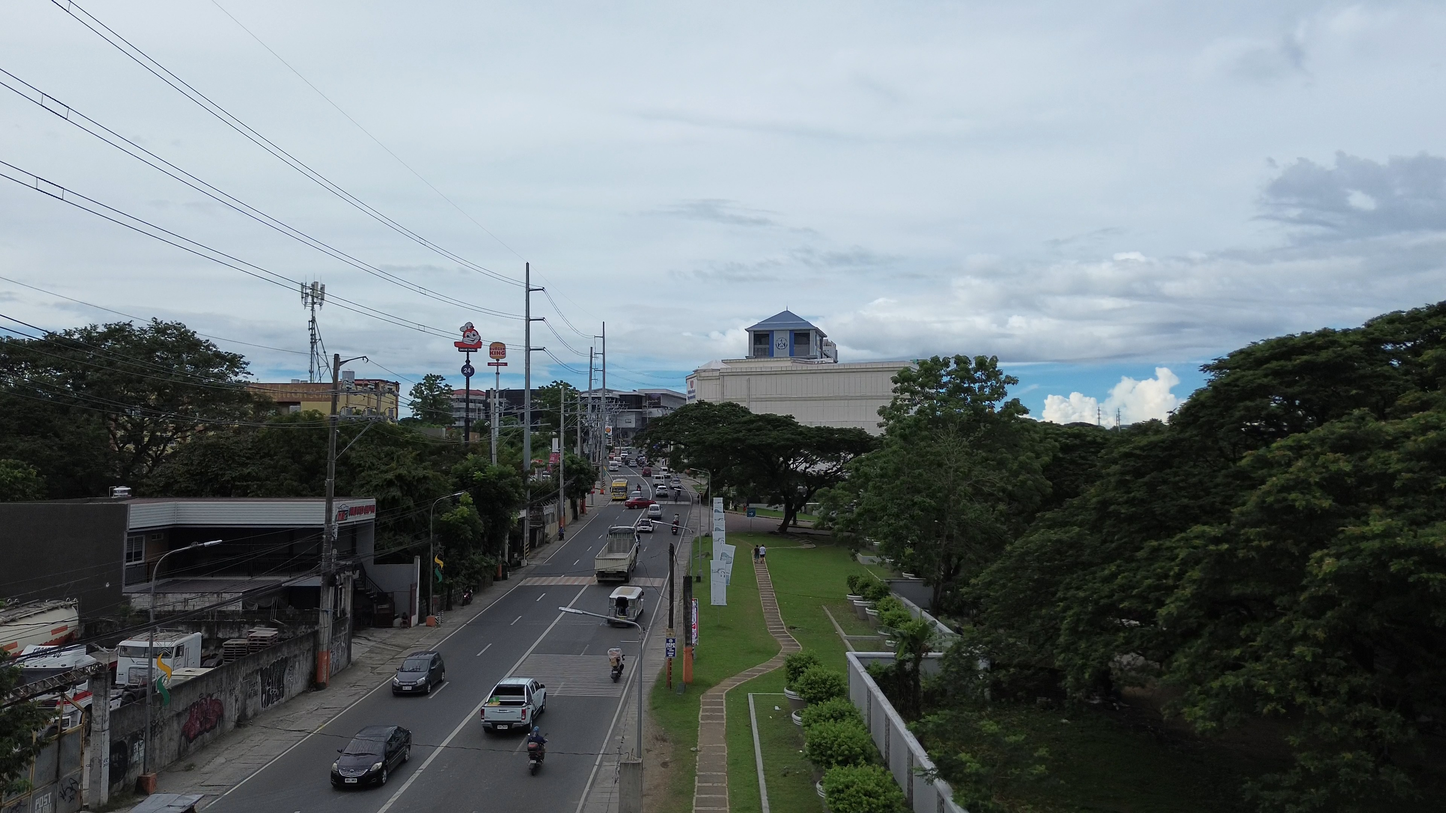bus: (611, 478, 627, 501)
car: (331, 726, 411, 787), (624, 496, 655, 509), (654, 484, 670, 499), (647, 502, 662, 518), (608, 461, 620, 472), (671, 476, 681, 489)
motorcycle: (527, 741, 545, 775), (608, 648, 624, 682), (461, 589, 473, 606)
vehicle: (0, 599, 80, 656), (480, 677, 545, 731), (595, 526, 639, 582), (392, 651, 444, 694), (116, 636, 161, 685), (609, 586, 644, 625), (527, 738, 545, 775), (608, 647, 625, 682), (611, 478, 627, 501), (635, 518, 654, 533), (654, 484, 671, 499), (670, 476, 682, 489), (608, 460, 620, 470), (641, 466, 651, 476)
